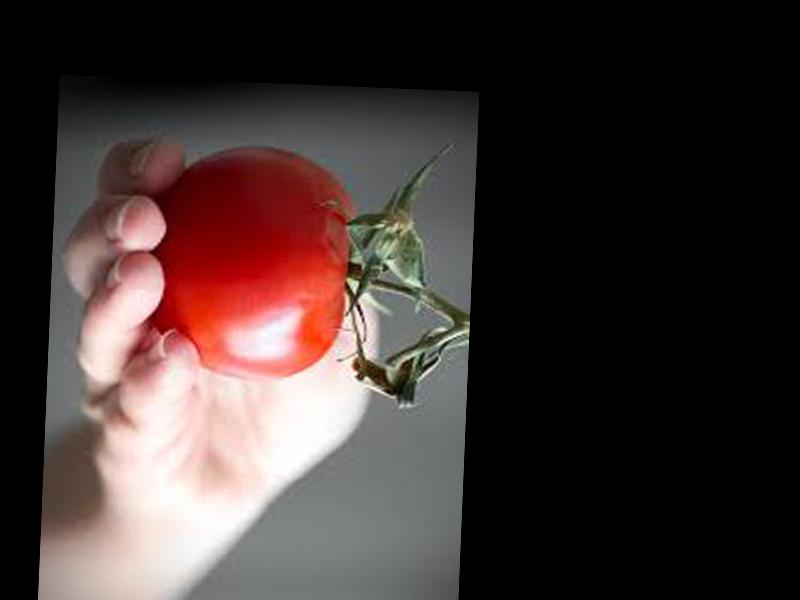Tomato: (148, 142, 361, 382)
